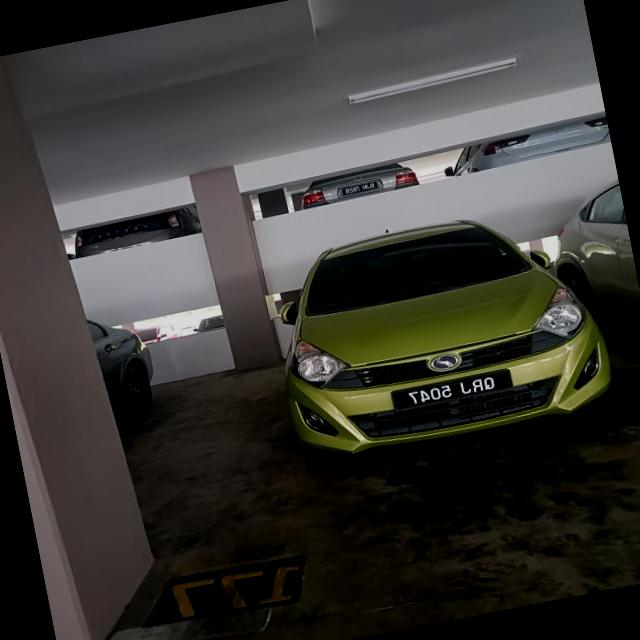PeroduaAxia: (258, 195, 620, 468)
